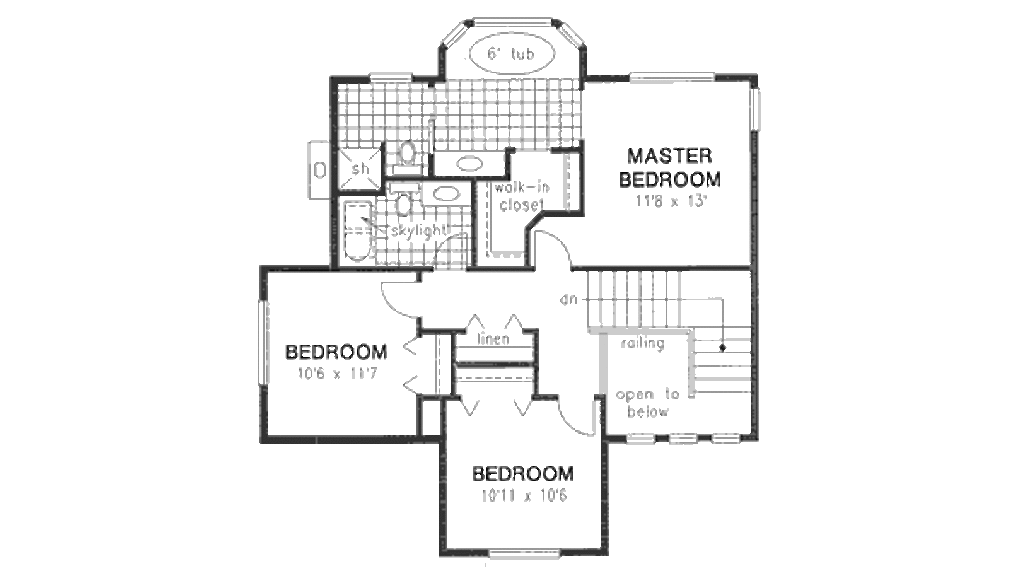door: (375, 273, 428, 319), (530, 227, 580, 274), (424, 229, 470, 273), (556, 391, 600, 431)
large_sink: (384, 176, 420, 220), (389, 133, 425, 175)
small_sink: (436, 147, 498, 171), (421, 181, 468, 209)
stairs: (576, 265, 756, 388)
tub: (453, 33, 563, 77), (337, 196, 384, 268)
window: (622, 427, 760, 446), (369, 64, 428, 91), (256, 297, 273, 389), (487, 544, 572, 561), (628, 66, 721, 81), (467, 18, 556, 30), (745, 78, 764, 131)
